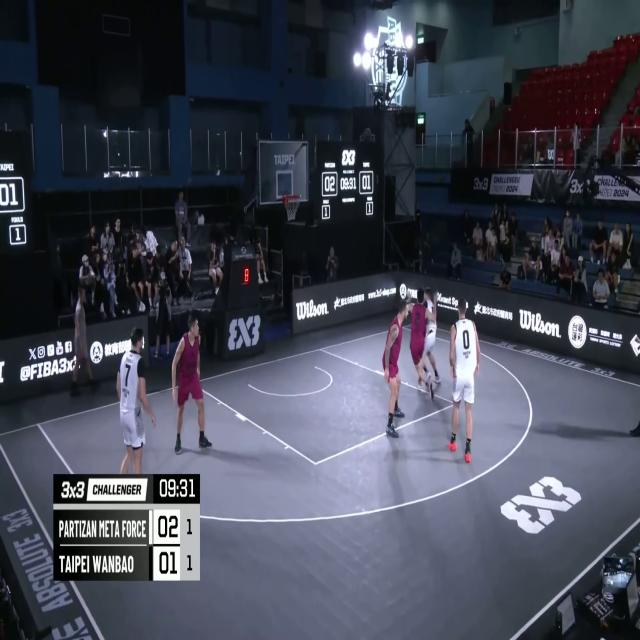hoop: (282, 192, 302, 224)
player: (172, 312, 212, 455), (117, 326, 154, 474), (448, 299, 478, 465), (381, 297, 410, 440), (410, 288, 438, 398), (418, 286, 441, 388)
